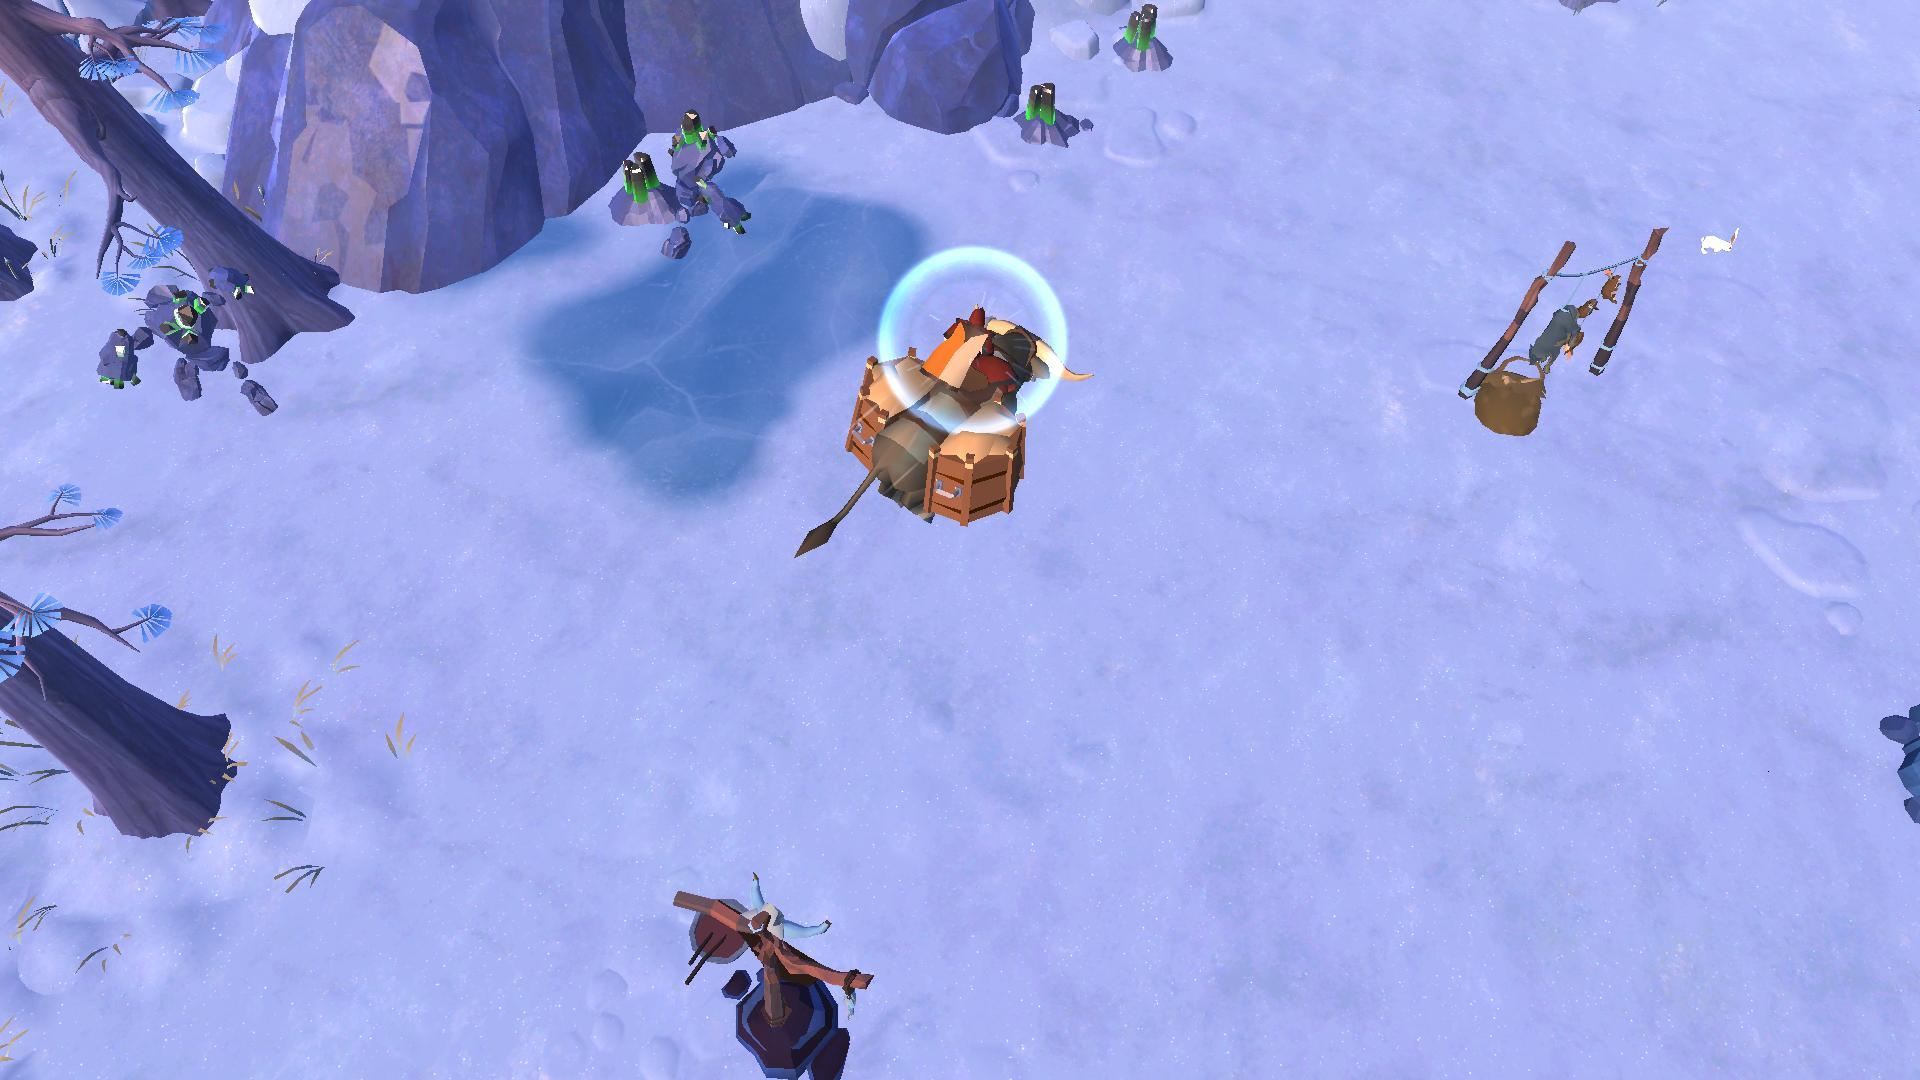ore_t3: (608, 140, 661, 208), (1121, 0, 1166, 61), (1011, 76, 1060, 132)
